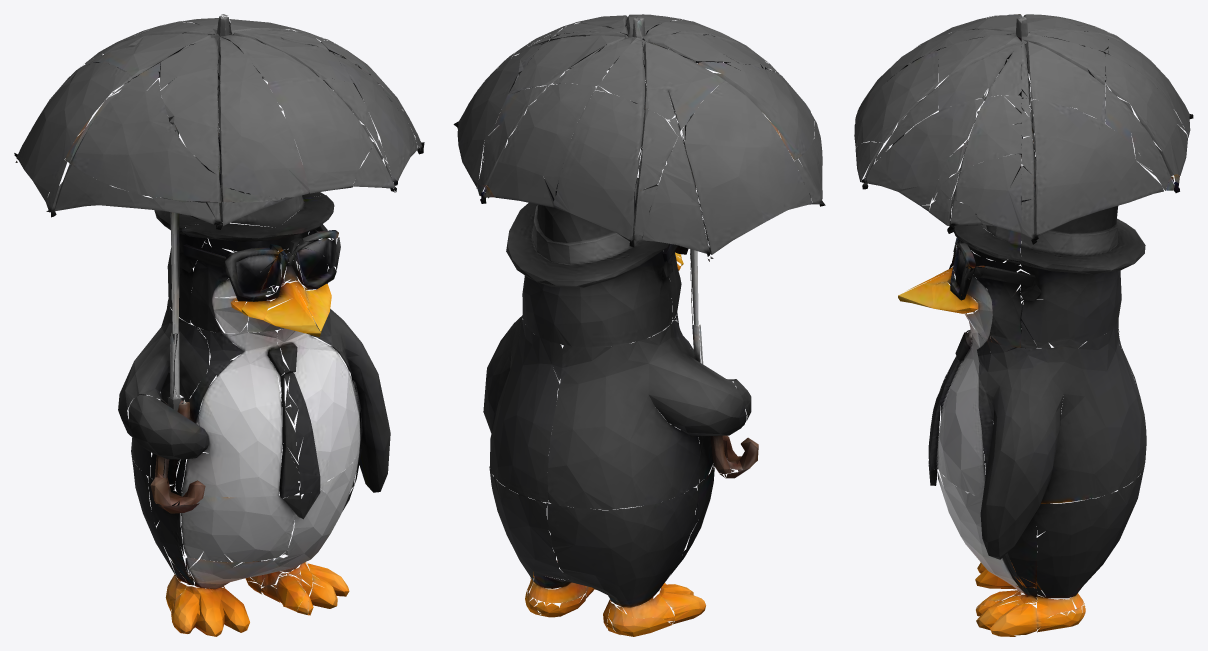
Rendered from agentpenguin.glb.
3 renders of one model, left to right at view 1: azimuth 30°, elevation 25°; view 2: azimuth 150°, elevation 25°; view 3: azimuth 270°, elevation 25°, orthographic. The views are drawn at different scales.
Visible parts, largest first — view 1: world; view 2: world; view 3: world.
Part boxes in pixels (box(x1,y1,x2,y2)): world: box(14, 14, 424, 636); world: box(453, 14, 825, 636); world: box(854, 14, 1193, 636).
Size of the model in its own units: 0.6287 by 0.9999 by 0.5379.
1 material, 1 textured.
